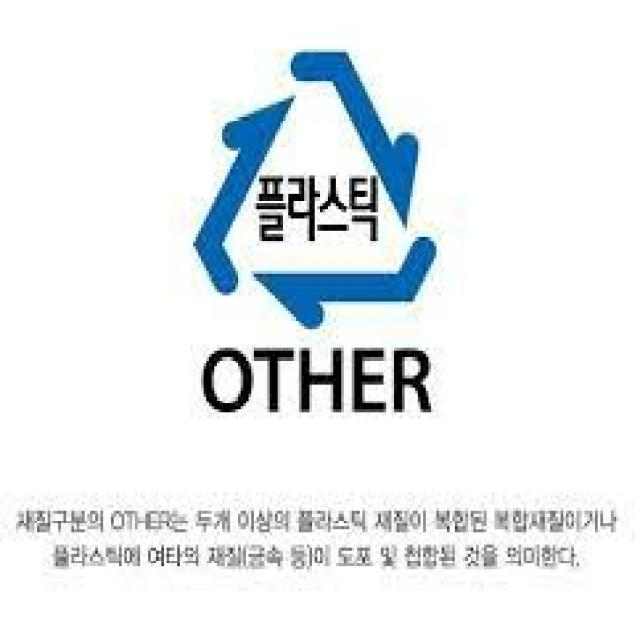Plastic: (180, 38, 452, 343)
